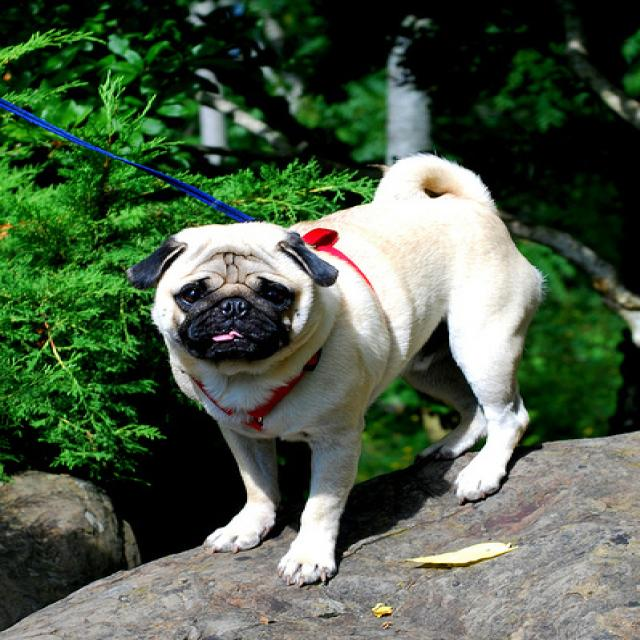dog-pug: (107, 146, 552, 595)
